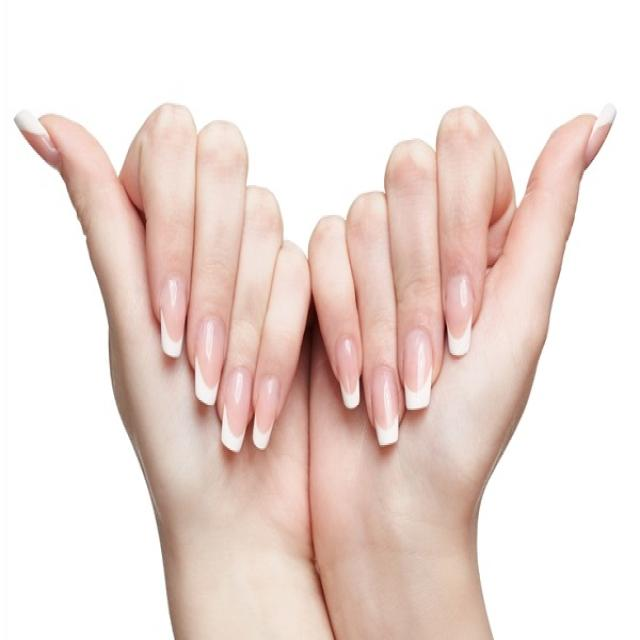Nail: (15, 109, 59, 169), (195, 316, 225, 404), (222, 367, 253, 451), (445, 273, 474, 355), (404, 328, 432, 409), (372, 365, 399, 444), (160, 275, 186, 357), (585, 104, 616, 165), (254, 375, 280, 447), (336, 336, 360, 407)
